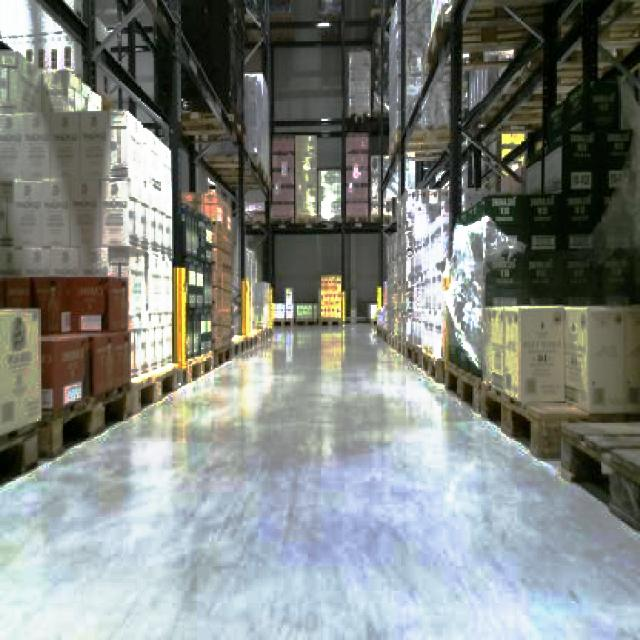ground: (0, 318, 638, 638)
pallet: (374, 0, 638, 638), (375, 302, 638, 558), (557, 414, 638, 638), (266, 127, 385, 230)
